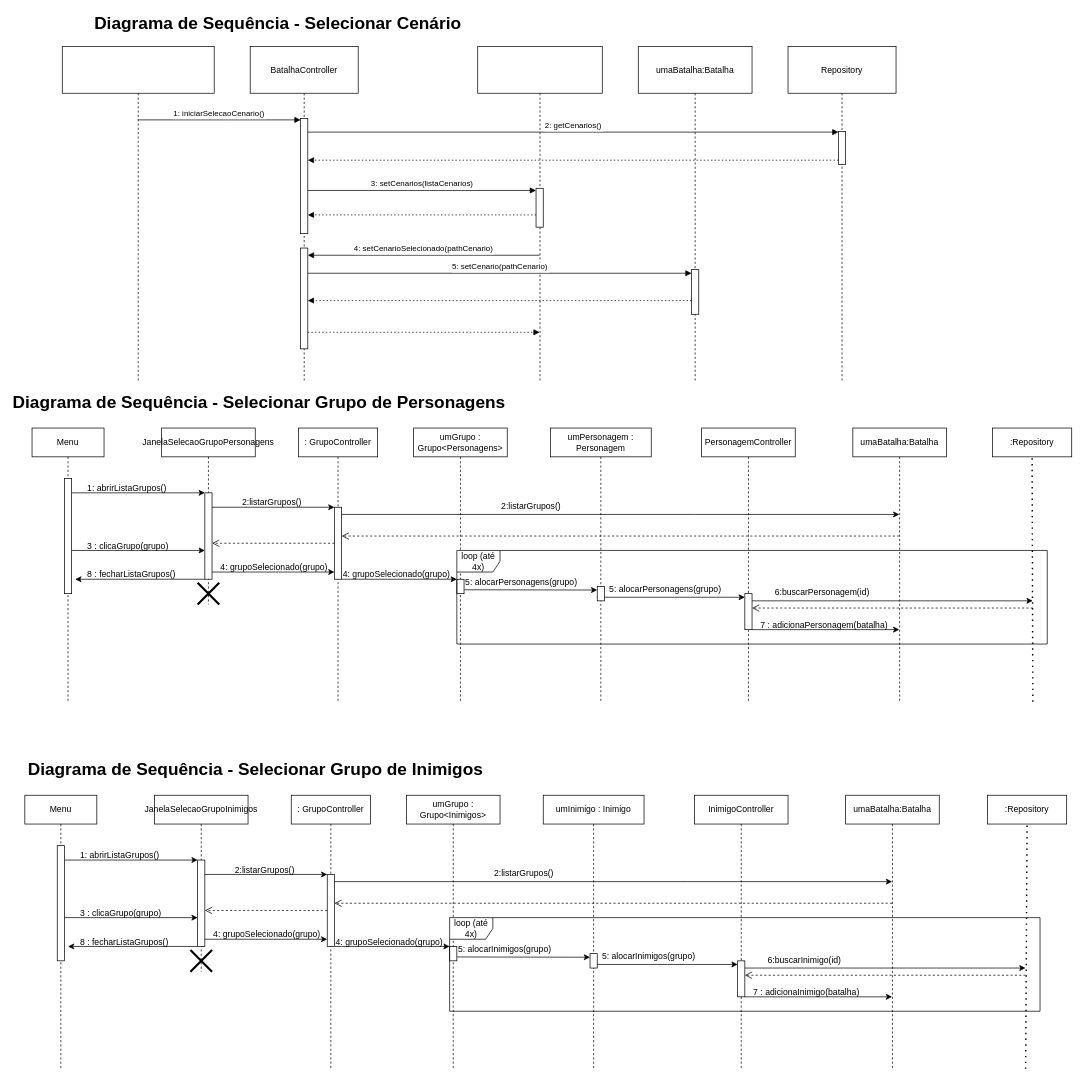
Some shapes in this 1084 by 1082 pixel diagram are drawn without their labels. Here are the shapes that lost their labels. From the top down, the box of each, then its label:
(62, 46, 214, 381): JanelaConfiguracaoBatalha
(477, 46, 602, 381): JanelaSelecaoCenario
